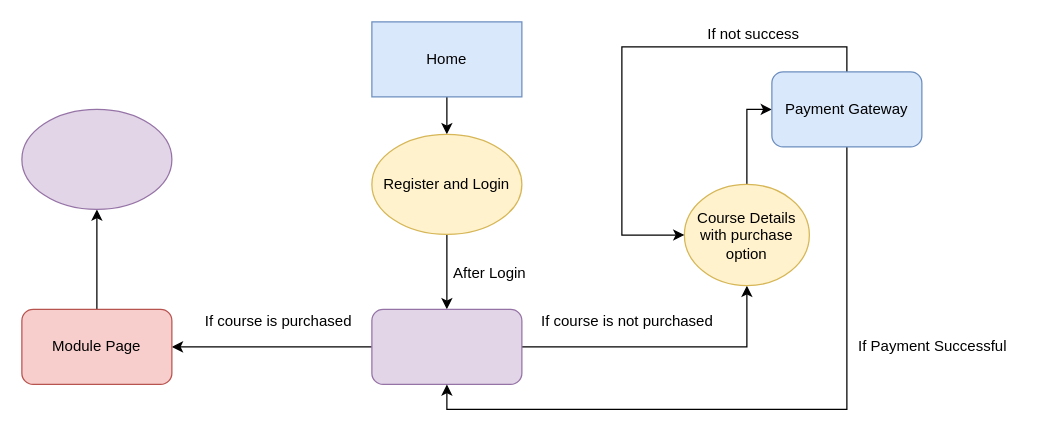
The diagram is 1044 pixels wide and 441 high, and some of its shapes have lost their labels. Each missing label, with the box of its shape:
Side Dashboard With Course Index: (371, 308, 522, 384)
Video Player and Quiz section: (21, 108, 172, 209)
